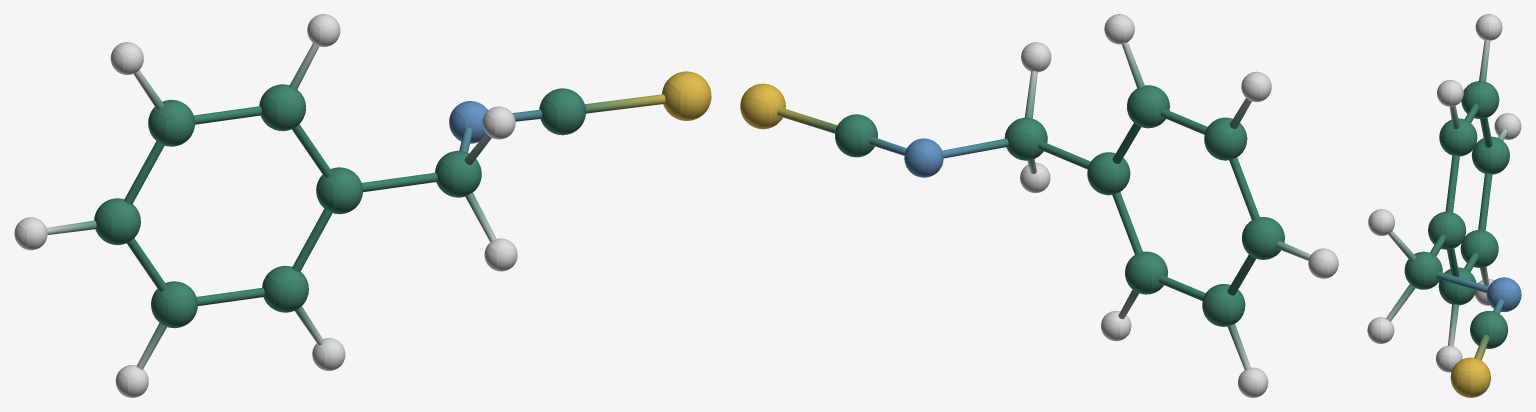
Rendered from Benzylisothiocyanate.fbx.
3 views of the same model, side by side, from view 1: azimuth 30°, elevation 25°; view 2: azimuth 150°, elevation 25°; view 3: azimuth 270°, elevation 25° (orthographic). The views are drawn at different scales.
Parts seen in each view (by area): view 1: curMeshHyperballExportedMesh; view 2: curMeshHyperballExportedMesh; view 3: curMeshHyperballExportedMesh.
Boxes of the visible parts, box(x1,y1,x2,y2) form: curMeshHyperballExportedMesh: box(14, 14, 711, 397); curMeshHyperballExportedMesh: box(740, 14, 1338, 397); curMeshHyperballExportedMesh: box(1367, 14, 1521, 397).
Size of the model in its own units: 9.3 by 4.74 by 2.28.
